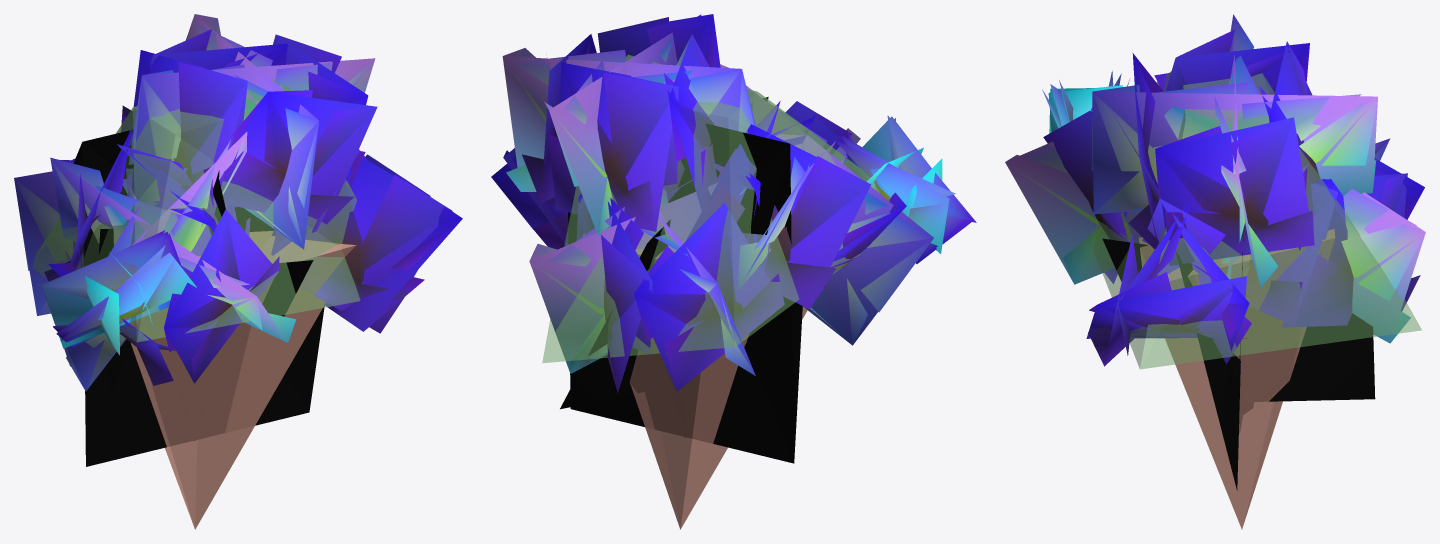
The model's file is cork_oak_bush_medium.dae.
3 views of the same model, side by side, from view 1: azimuth 30°, elevation 25°; view 2: azimuth 150°, elevation 25°; view 3: azimuth 270°, elevation 25° (orthographic). The views are drawn at different scales.
Parts seen in each view (by area): view 1: cork_oak_bush_small_a110, cork_oak_bush_small_a500, Colmesh-1; view 2: cork_oak_bush_small_a500, cork_oak_bush_small_a110, Colmesh-1; view 3: cork_oak_bush_small_a500, cork_oak_bush_small_a110, Colmesh-1.
Boxes of the visible parts, x1=… form: cork_oak_bush_small_a110: x1=14, y1=14, x2=462, y2=466; cork_oak_bush_small_a500: x1=14, y1=14, x2=462, y2=465; Colmesh-1: x1=32, y1=79, x2=360, y2=529; cork_oak_bush_small_a500: x1=491, y1=14, x2=976, y2=463; cork_oak_bush_small_a110: x1=491, y1=14, x2=972, y2=462; Colmesh-1: x1=542, y1=54, x2=879, y2=529; cork_oak_bush_small_a500: x1=1006, y1=14, x2=1425, y2=490; cork_oak_bush_small_a110: x1=1005, y1=16, x2=1425, y2=482; Colmesh-1: x1=1093, y1=71, x2=1421, y2=529.
Bounding box in the file's own units: 3.49 × 2.93 × 3.77.
